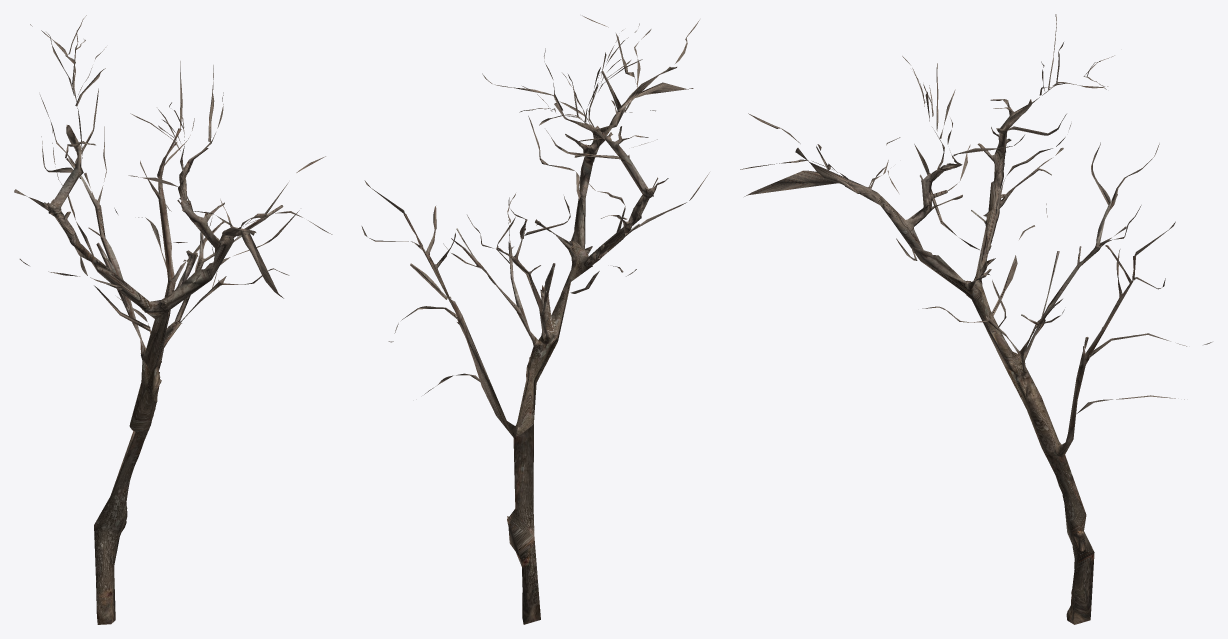
The model's file is arbolpeq_L0_madera.glb.
The picture shows the model from 3 angles, left to right: view 1: azimuth 30°, elevation 25°; view 2: azimuth 150°, elevation 25°; view 3: azimuth 270°, elevation 25°; orthographic projection. The views are drawn at different scales.
Visible parts, largest first — view 1: tree_small_02_LOD0; view 2: tree_small_02_LOD0; view 3: tree_small_02_LOD0.
Boxes of the visible parts, left/top/right/bottom form: tree_small_02_LOD0: left=14, top=15, right=332, bottom=624; tree_small_02_LOD0: left=361, top=15, right=709, bottom=624; tree_small_02_LOD0: left=740, top=14, right=1211, bottom=624.
Bounding box in the file's own units: 1.82 × 4.29 × 3.21.
Materials: 2 (2 with a texture image).
